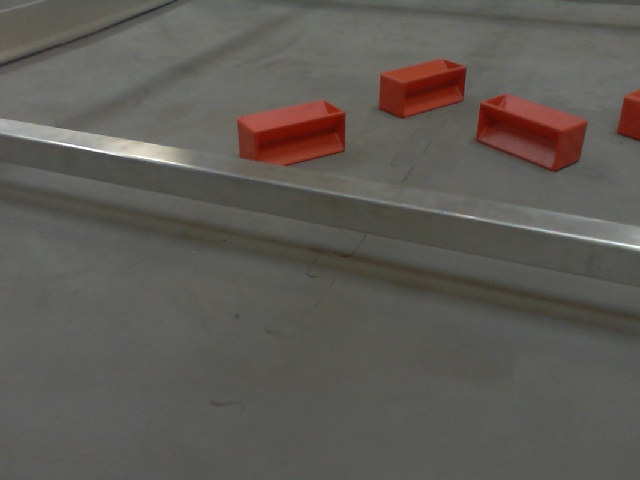RedSample: (475, 94, 588, 173), (234, 99, 348, 166), (378, 56, 467, 117), (616, 86, 640, 139)
